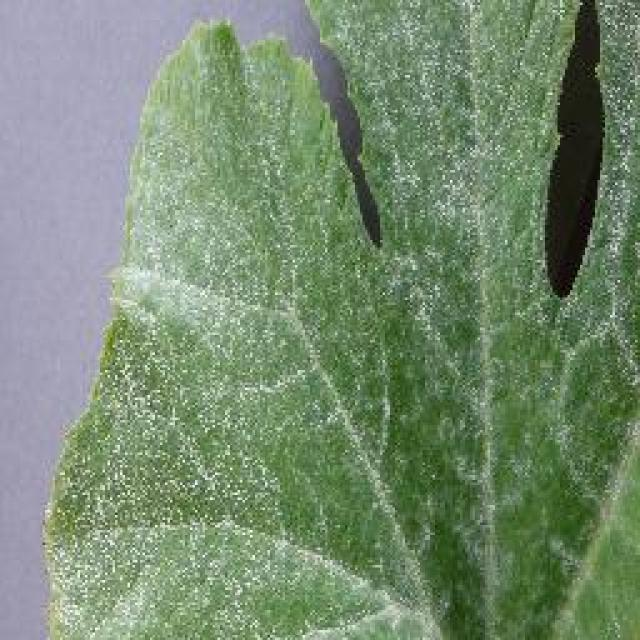Squ_Powdery_mildew: (132, 84, 598, 622)
